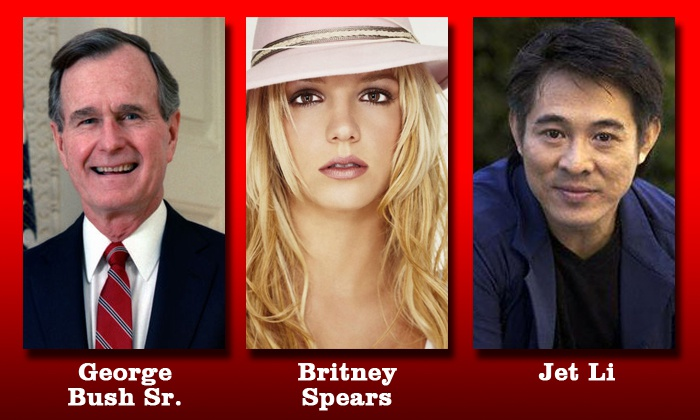bad: (511, 96, 640, 225), (282, 67, 411, 196), (55, 92, 163, 199)
